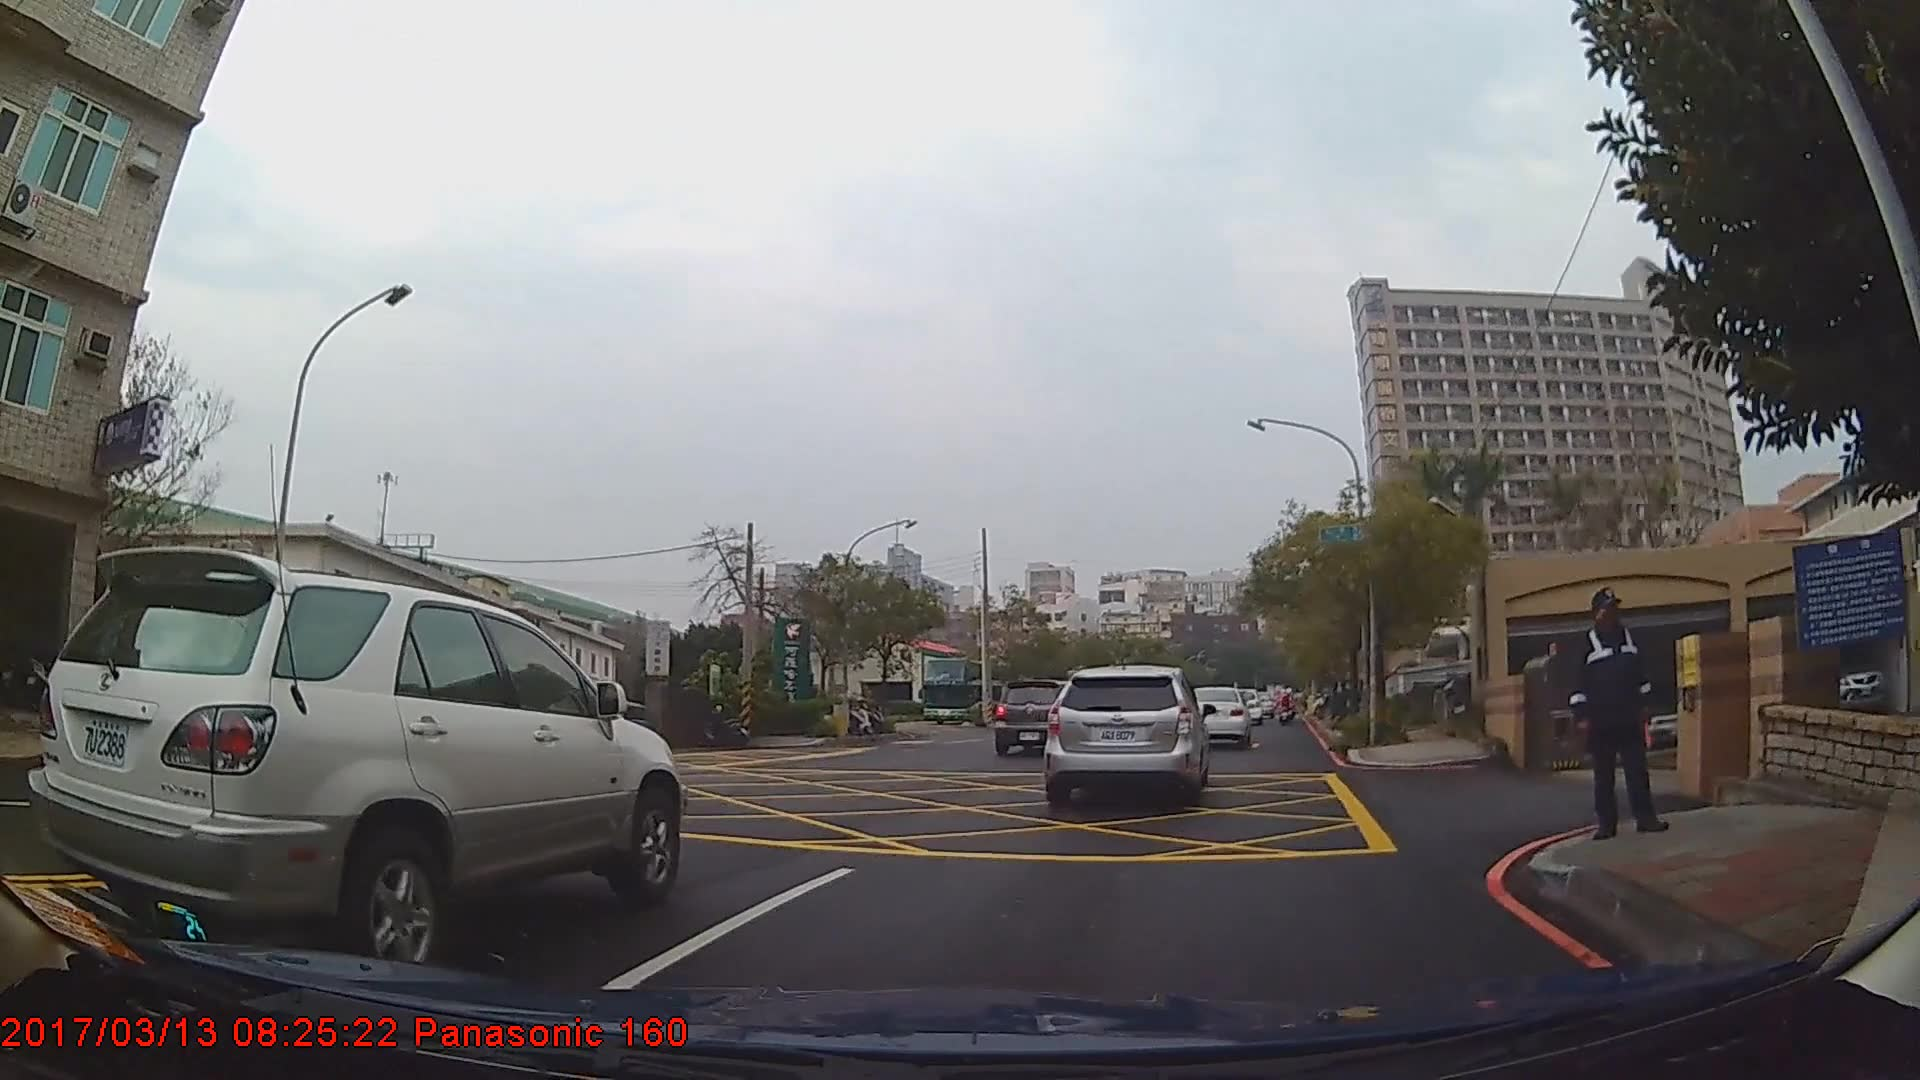pedestrian: (1575, 586, 1671, 842)
vehicle: (29, 544, 681, 972), (1042, 662, 1207, 806), (989, 681, 1087, 755), (917, 658, 1017, 727), (1183, 685, 1251, 747)
